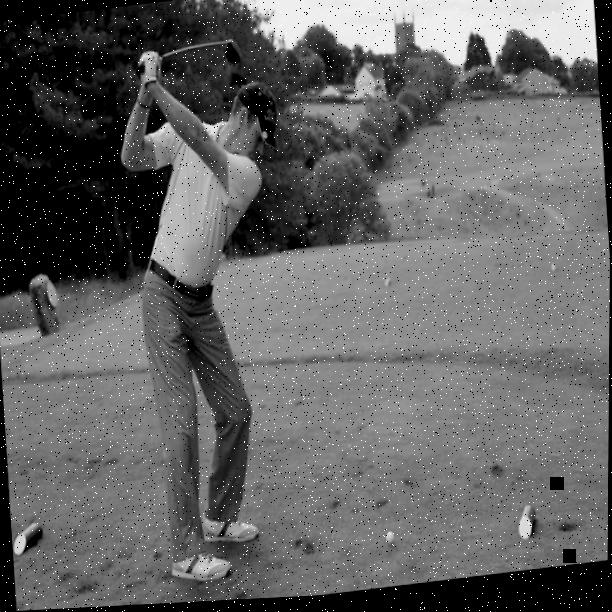ClubHead: (217, 32, 250, 77)
GolfBall: (381, 531, 398, 552)
